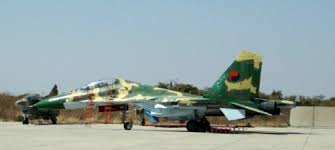maybay_muctieu: (39, 56, 289, 130)
